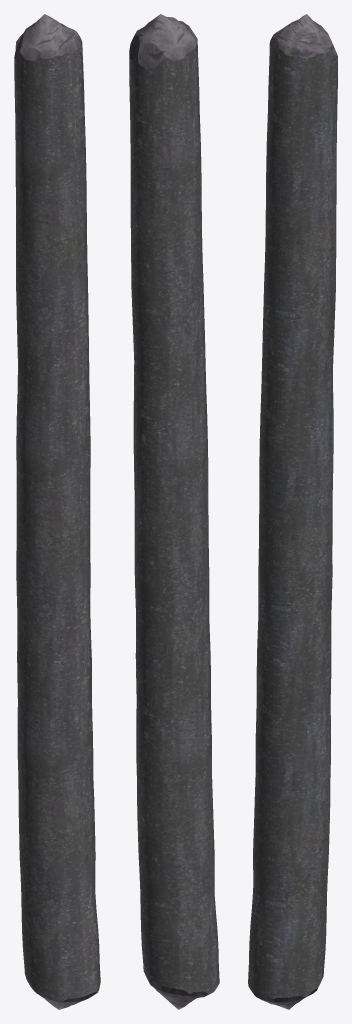
3 views of the same model, side by side, from view 1: azimuth 90°, elevation 25°; view 2: azimuth 150°, elevation 25°; view 3: azimuth 330°, elevation 25° (orthographic).
Visible parts, largest first — view 1: SM_FH_Ash_Tree_03_tree_quarters_top_LOD0; view 2: SM_FH_Ash_Tree_03_tree_quarters_top_LOD0; view 3: SM_FH_Ash_Tree_03_tree_quarters_top_LOD0.
Part boxes in pixels (x1,y1,x2,y2): SM_FH_Ash_Tree_03_tree_quarters_top_LOD0: (14, 14, 100, 1009); SM_FH_Ash_Tree_03_tree_quarters_top_LOD0: (129, 14, 219, 1009); SM_FH_Ash_Tree_03_tree_quarters_top_LOD0: (248, 14, 337, 1009).
Bounding box in the file's own units: 0.5203 × 6.77 × 0.536.
Materials: 1 (1 with a texture image).
